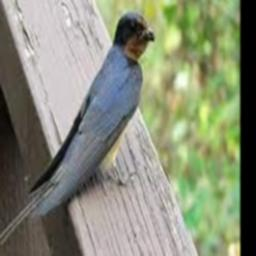Swallow: (0, 9, 154, 246)
